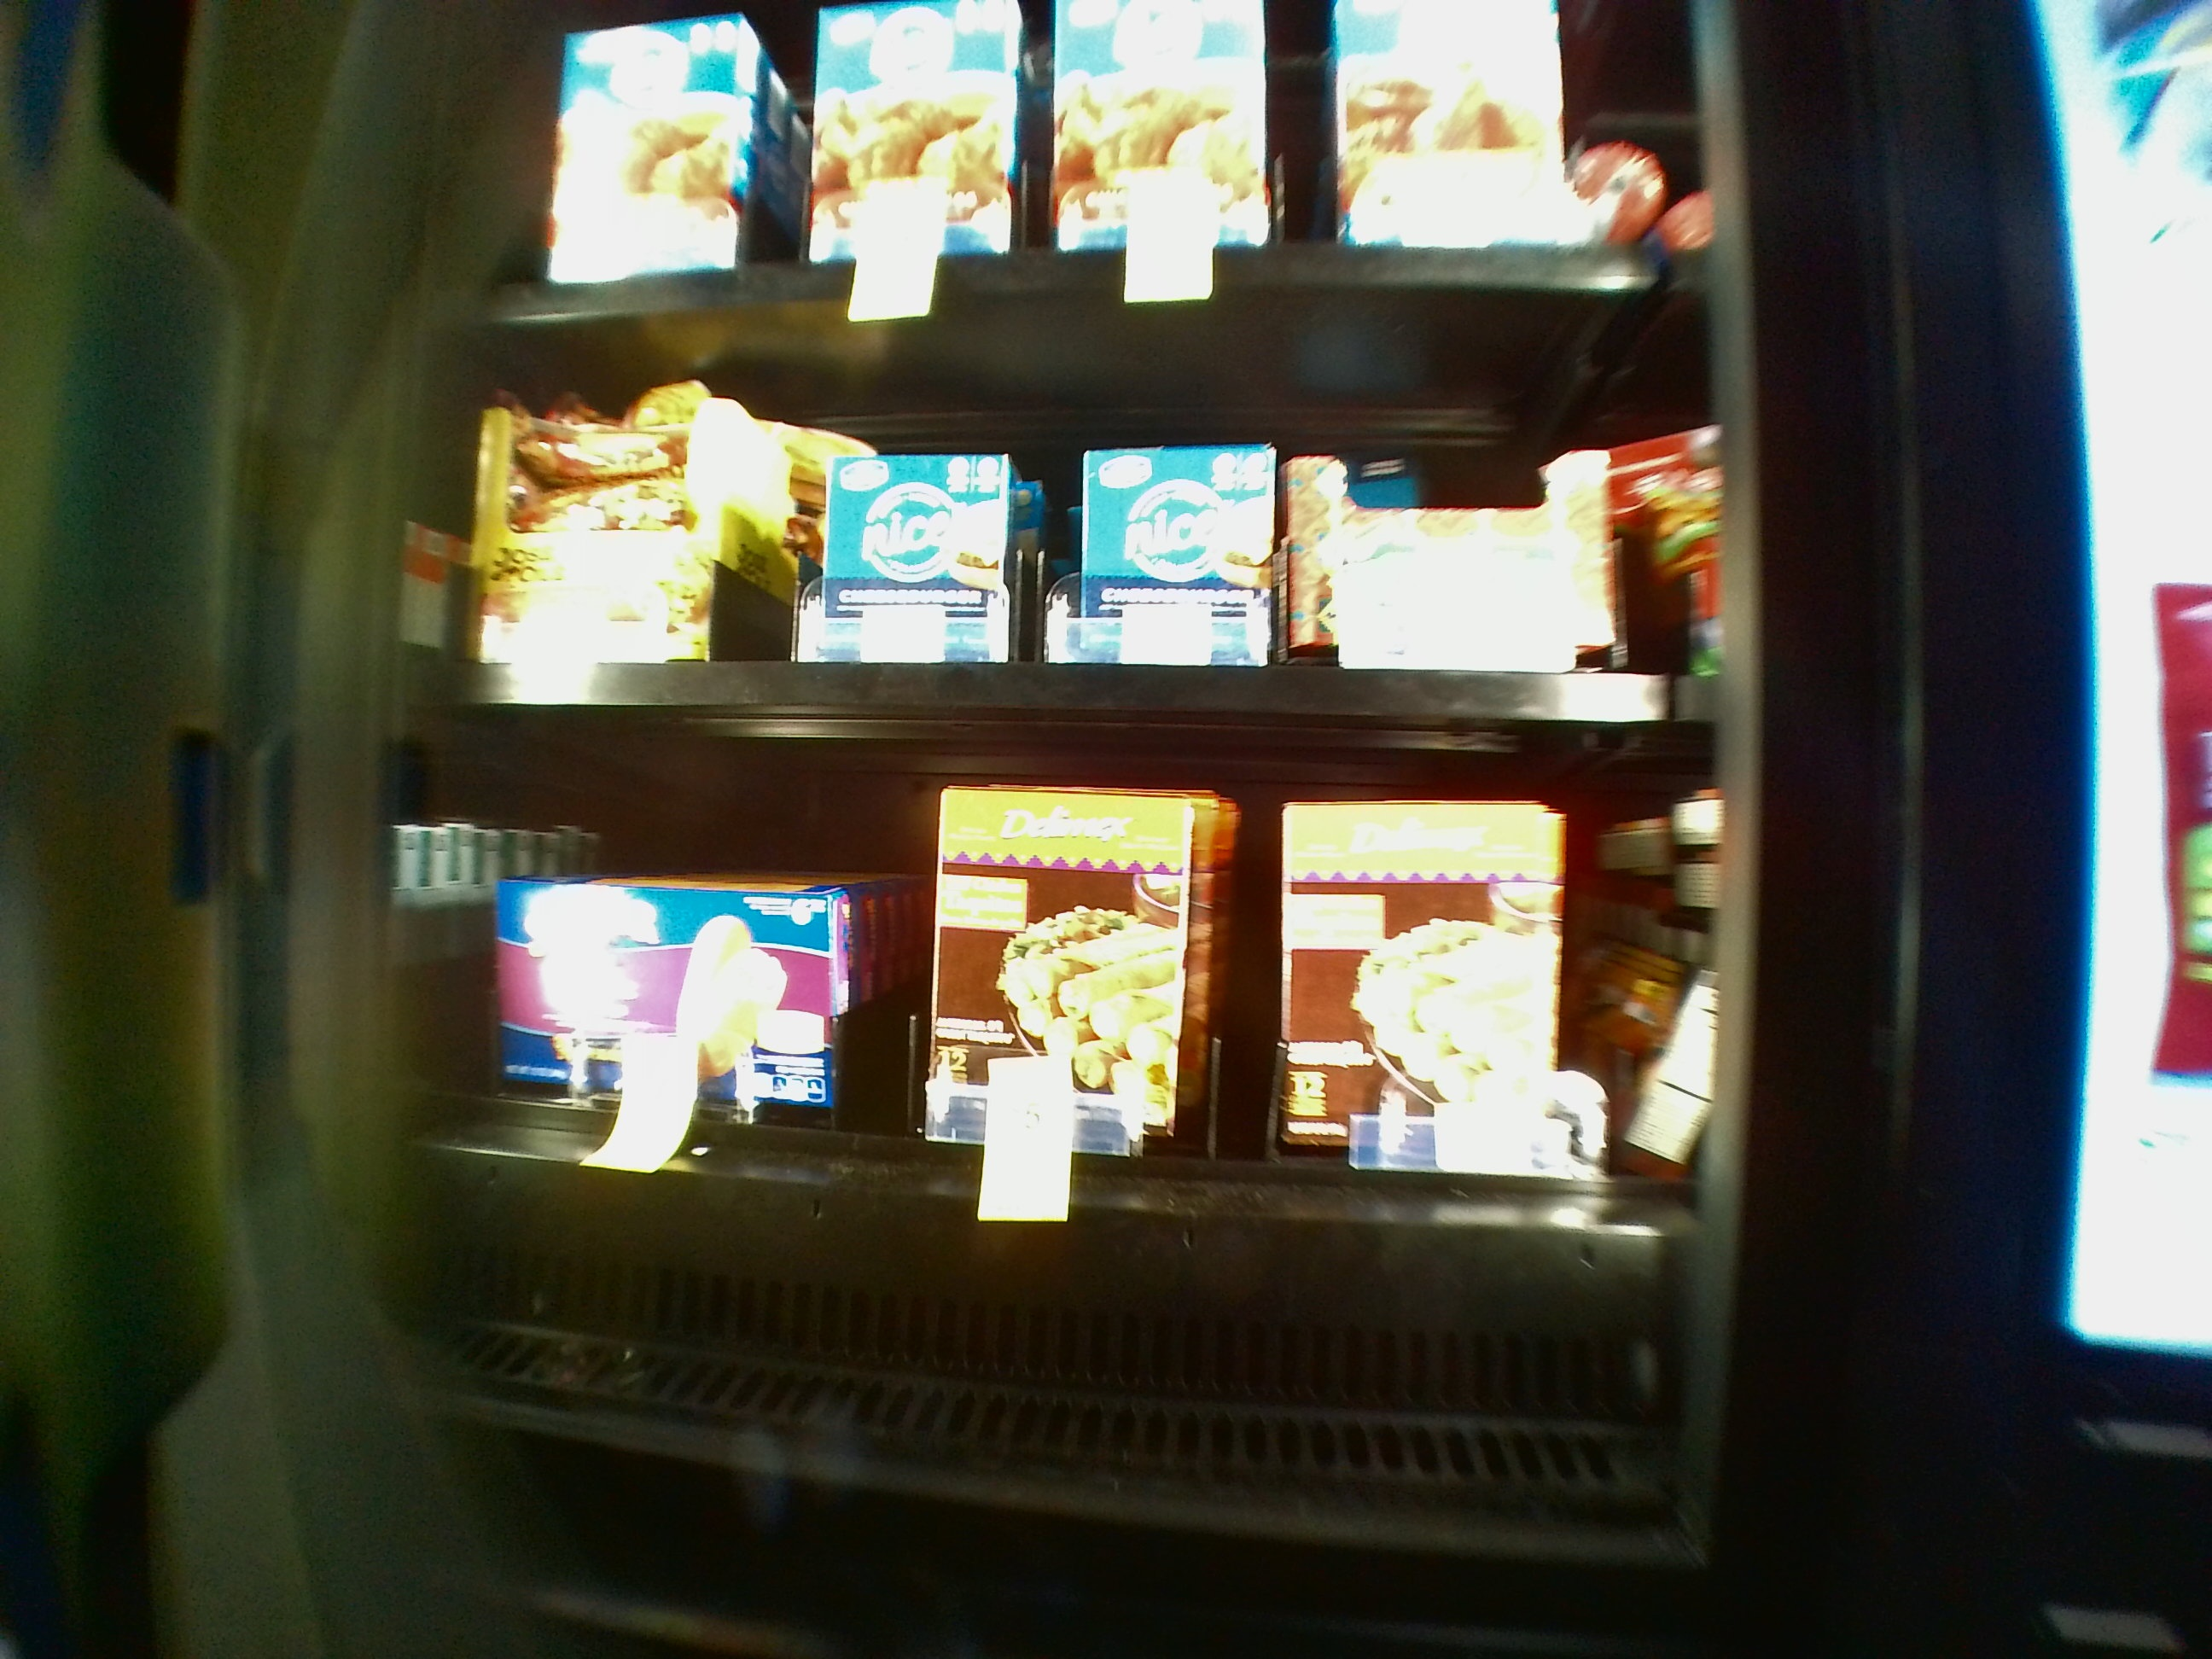shelf: (383, 751, 1696, 1514), (395, 291, 1707, 728)
